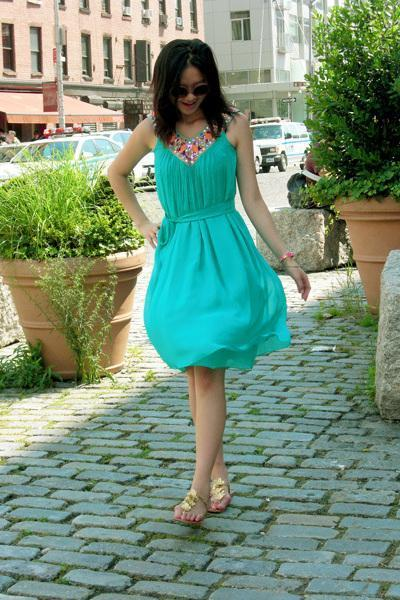dress: (144, 124, 299, 370)
shoe: (190, 484, 221, 515)
